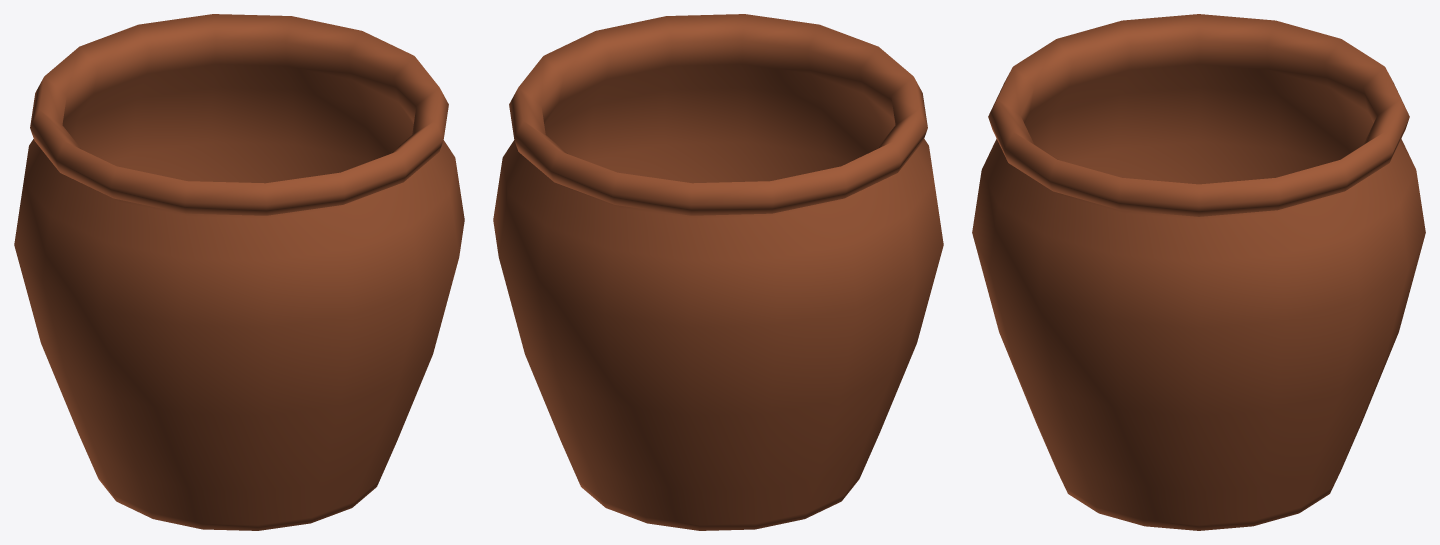
The model's file is thai_jar.glb.
The picture shows the model from 3 angles, left to right: view 1: azimuth 30°, elevation 25°; view 2: azimuth 150°, elevation 25°; view 3: azimuth 270°, elevation 25°; orthographic projection.
Parts seen in each view (by area): view 1: thai_jar; view 2: thai_jar; view 3: thai_jar.
Boxes of the visible parts, <box> form: thai_jar: <box>14,14,464,530</box>; thai_jar: <box>493,14,943,530</box>; thai_jar: <box>972,14,1425,530</box>.
Size of the model in its own units: 0.9061 by 0.8246 by 0.9061.
